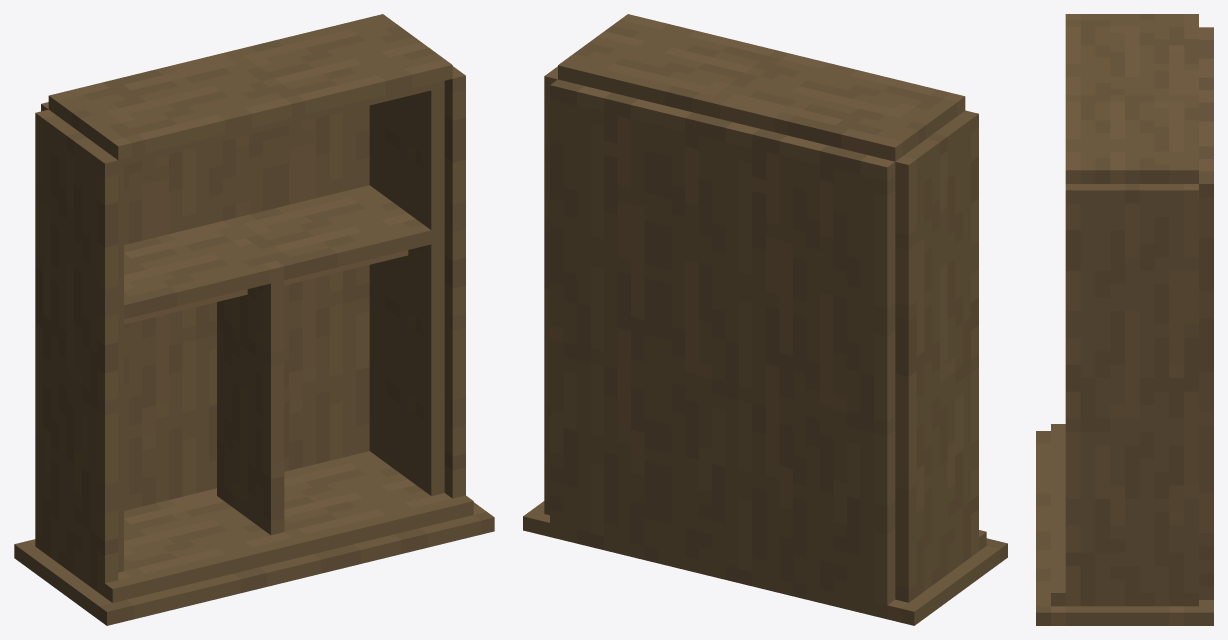
The model's file is Decor-63.obj.
3 renders of one model, left to right at view 1: azimuth 30°, elevation 25°; view 2: azimuth 150°, elevation 25°; view 3: azimuth 270°, elevation 25°, orthographic. The views are drawn at different scales.
Bounding box in the file's own units: 2.9 × 3.3 × 1.2.
Materials: 1 (1 with a texture image).
